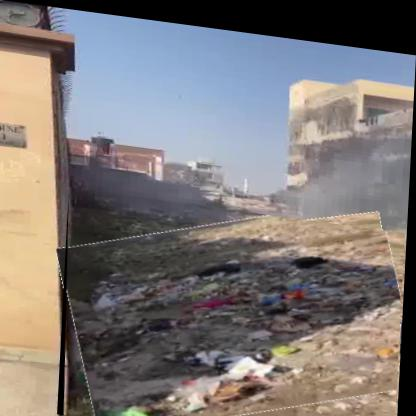Garbage: (62, 187, 409, 416)
